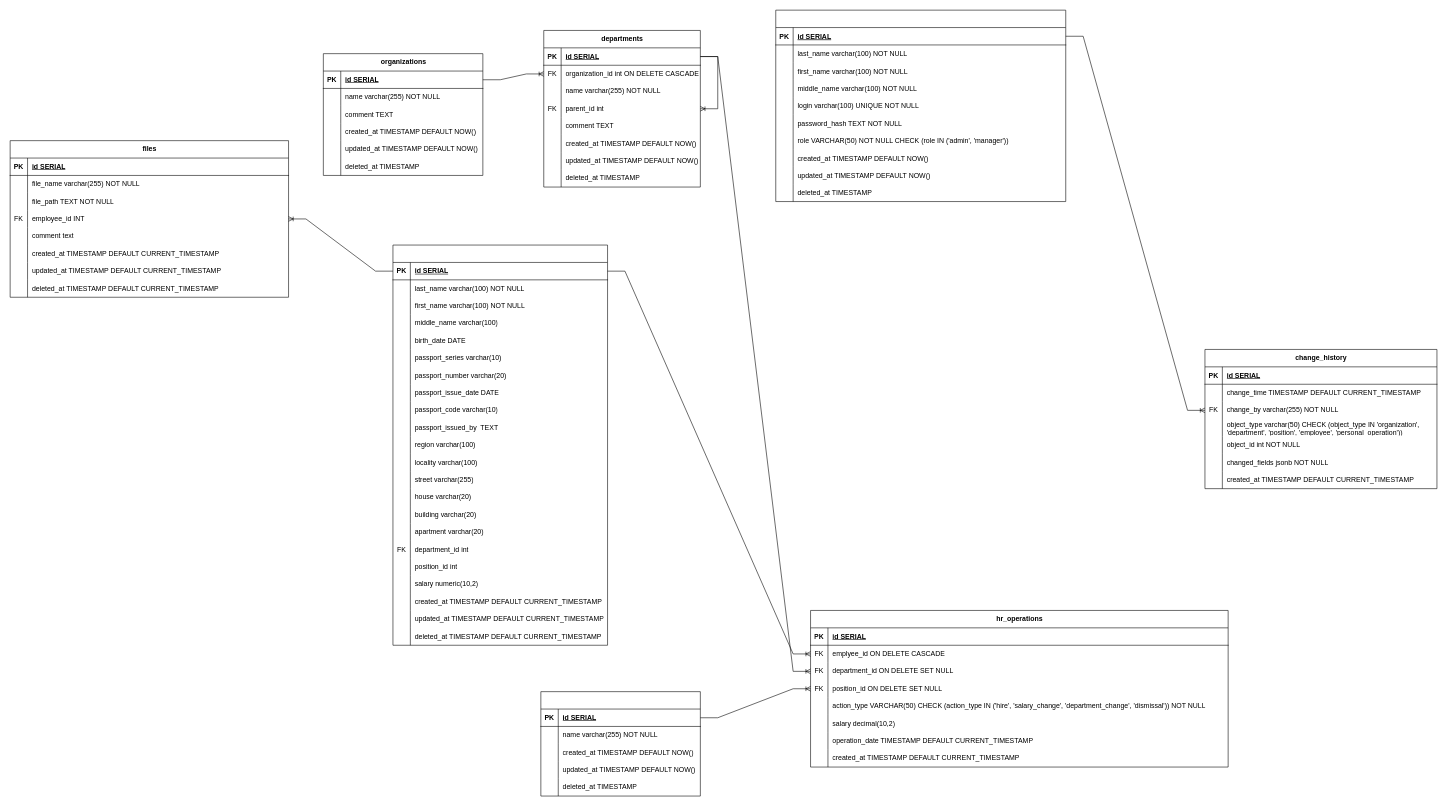
This 1447x806 diagram has some shape labels left out. Here are the shapes that lost their labels. From the top down, the box of each, then its label:
(775, 10, 1066, 202): users
(392, 244, 608, 645): emploeeys
(540, 691, 700, 796): positions
